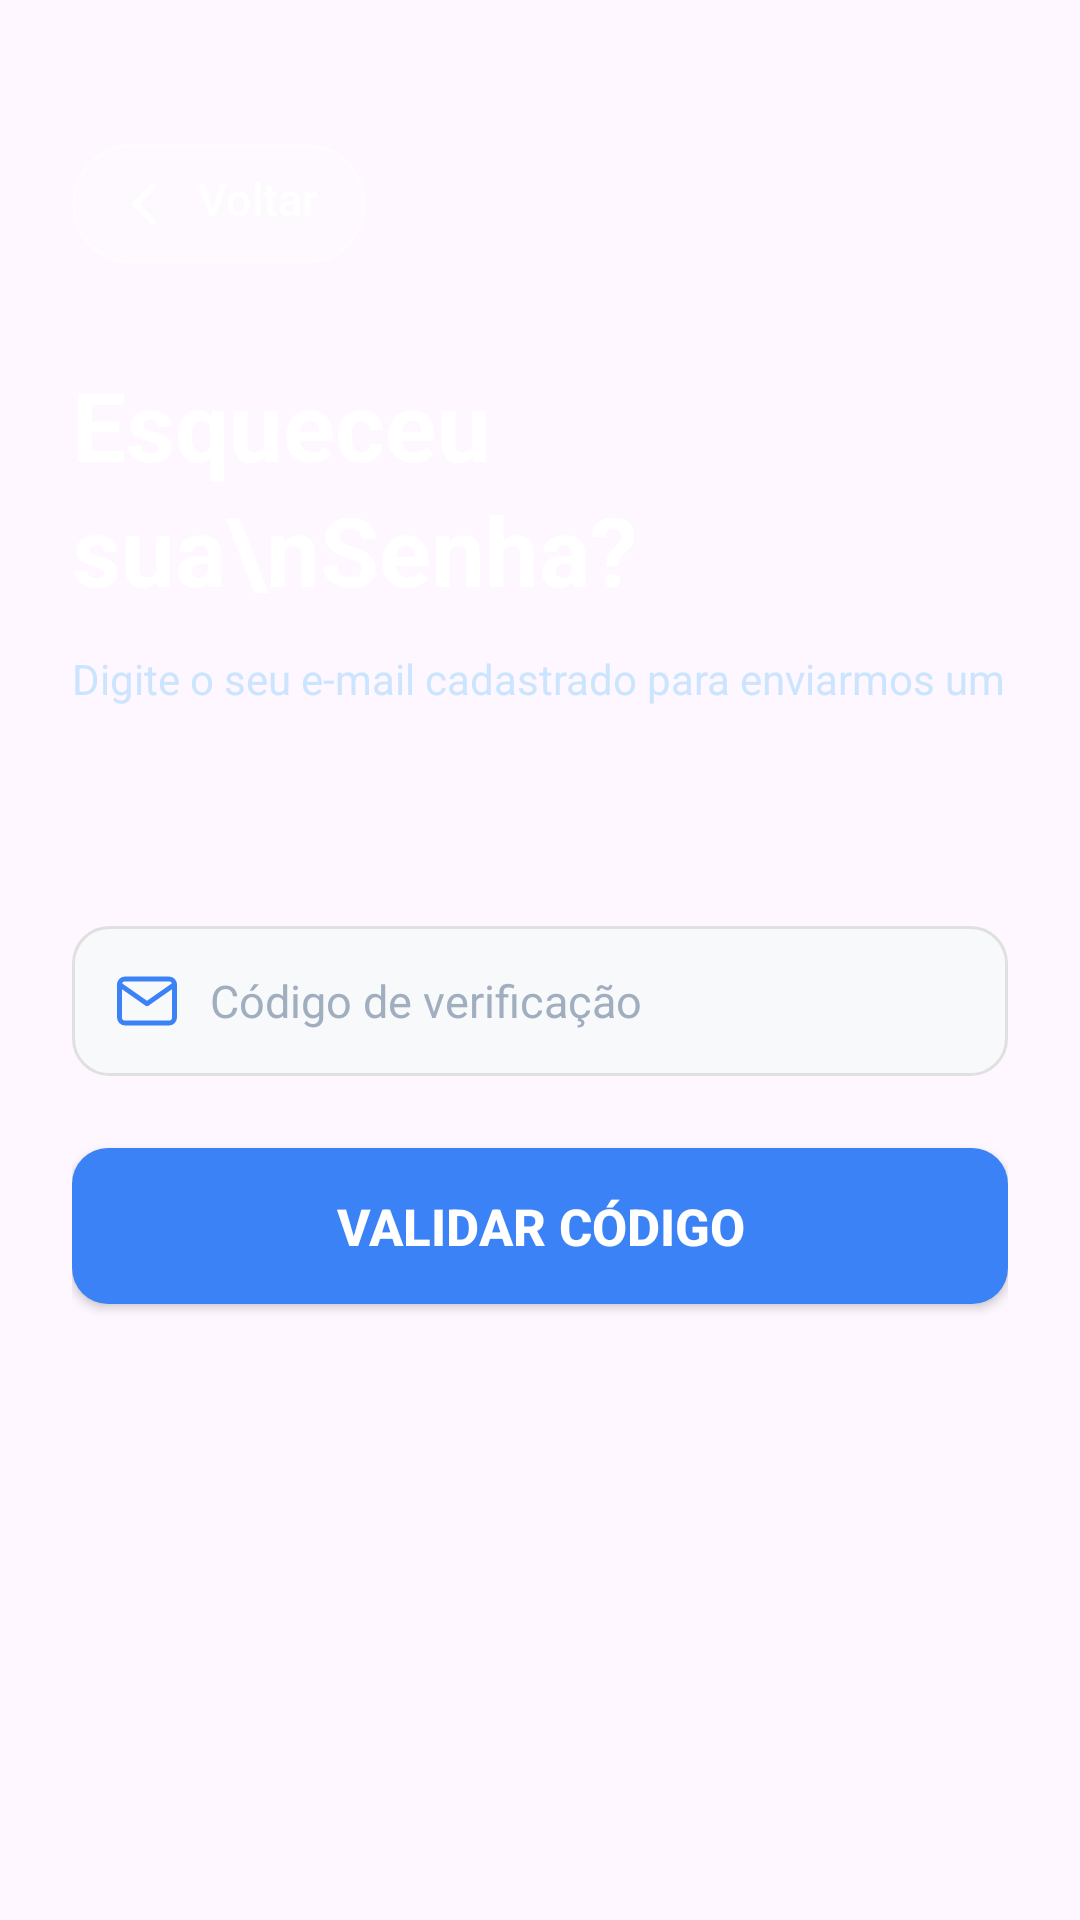

Icon bounding boxes for this 1080 x 1920 phone screenshot, format (x1, y1, x2, y2):
email: (117, 976, 177, 1026)
